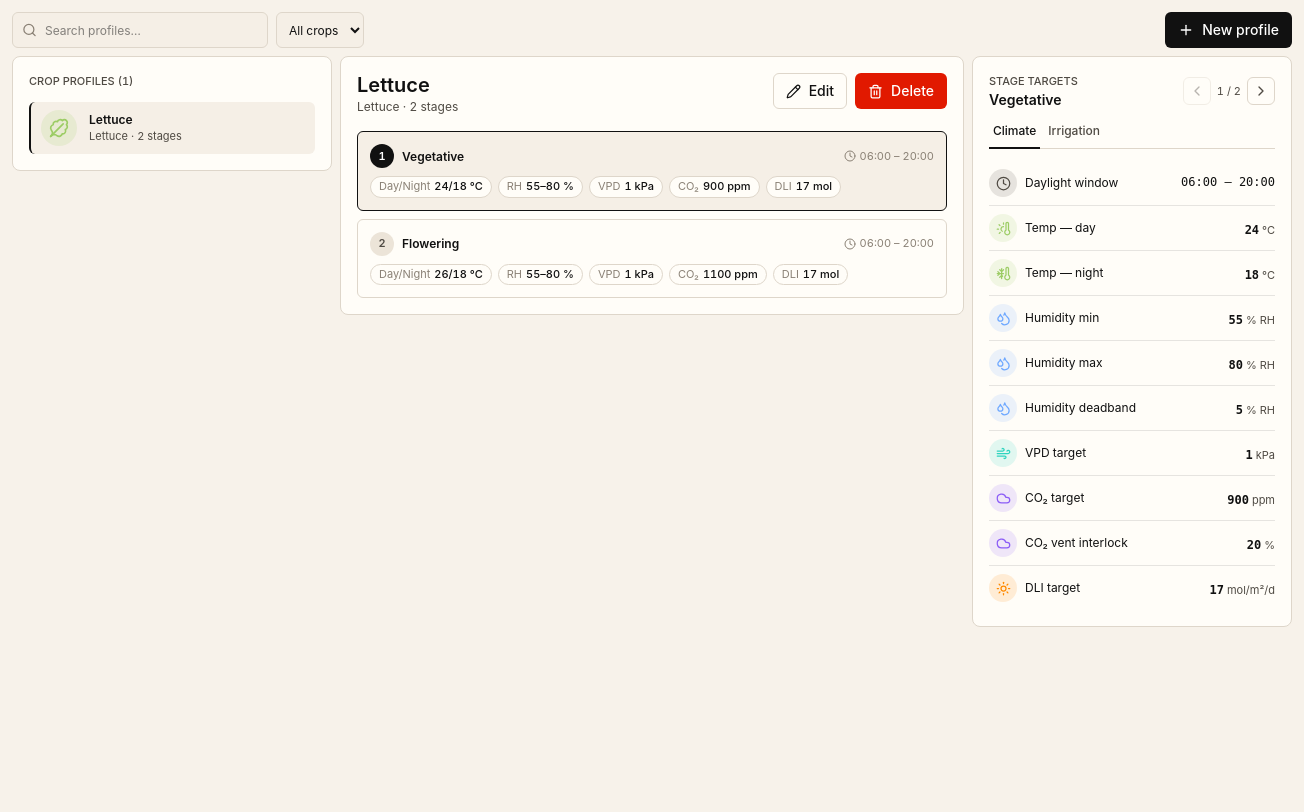
Scenario: ProfileManagement › selects a stage to reveal that stage's targets
The width and height of the screenshot is (1304, 812).
Check: the text "900" is shown, box left=1227, top=493, right=1249, bottom=507
Click the button "flowering": (431, 244) left=357, top=219, right=947, bottom=298
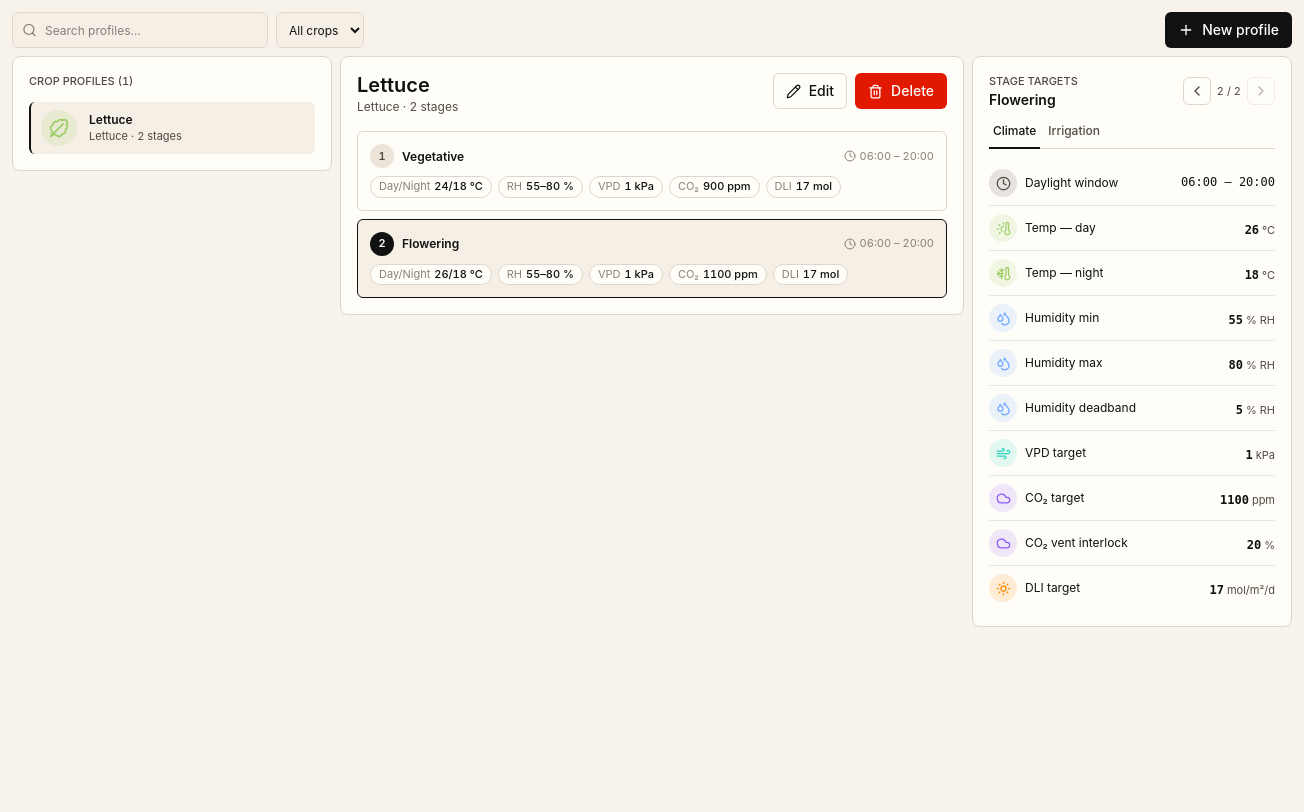
Check: the text "1100" is shown, box left=1220, top=493, right=1249, bottom=507
